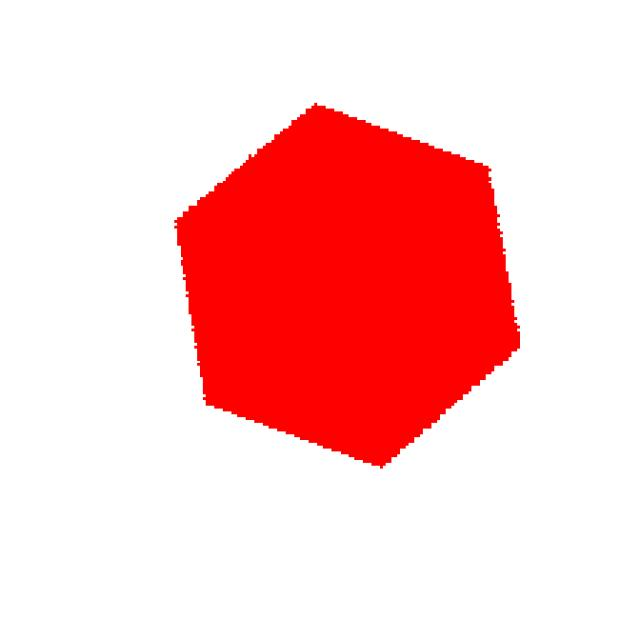Hexagon: (107, 61, 577, 492)
